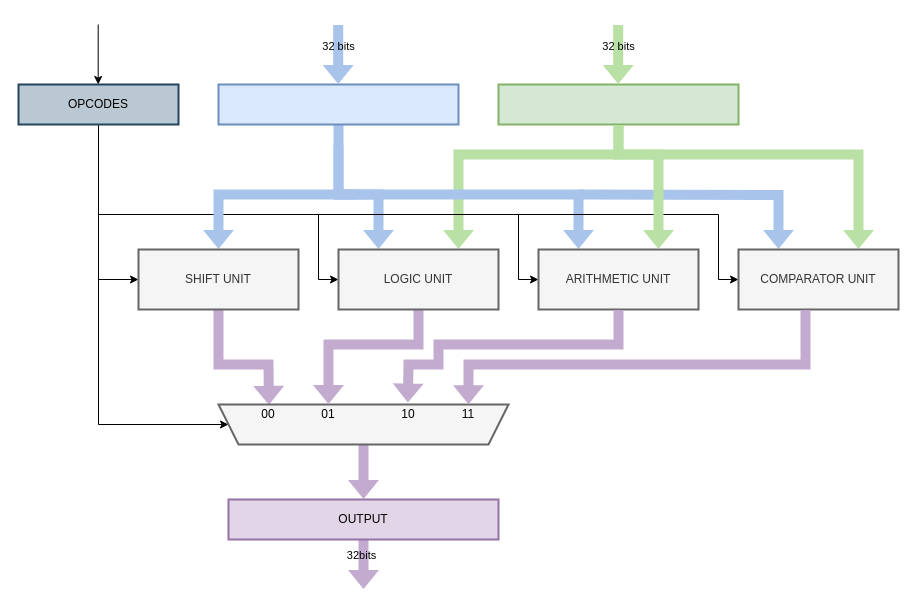
The diagram is 916 pixels wide and 606 high, and some of its shapes have lost their labels. The shapes that lost their labels are listed below. From the top down, each one's box as (x1, y1, x2, y2) in pixels, then its label:
(217, 83, 459, 125): INPUT A
(497, 83, 739, 125): INPUT B
(217, 403, 509, 445): MUX
